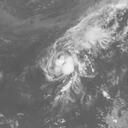cyclone: (49, 30, 90, 80)
